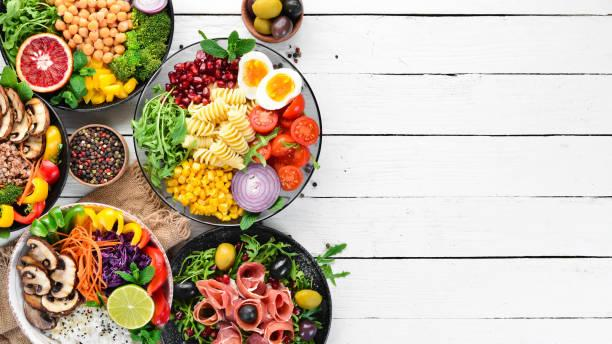Braised Crucian Carp: (134, 37, 318, 225), (8, 202, 171, 344), (156, 222, 333, 341), (3, 0, 174, 113)
